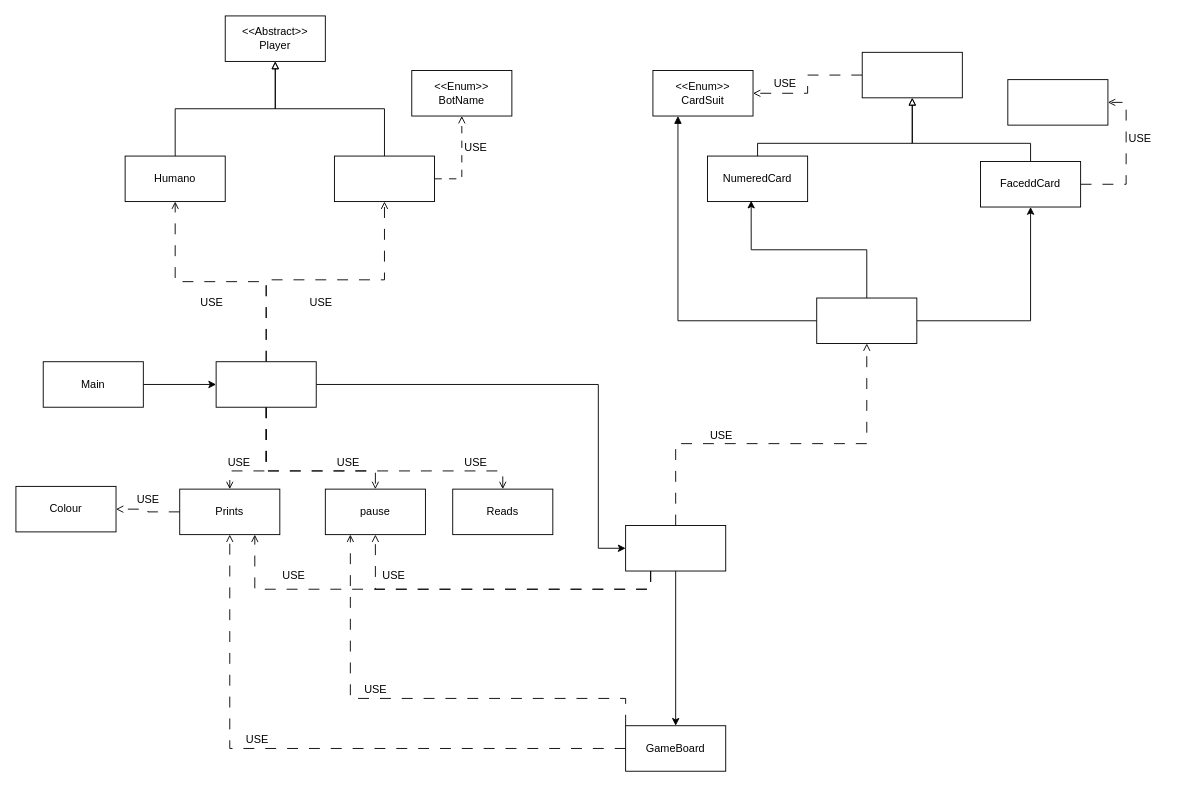
This 1178x787 diagram has some shape labels left out. The shapes that lost their labels are listed below. From the top down, each one's centre as x and y in pixels, then its label:
At (x=911, y=74): "<<Abstract>> Card".
At (x=1057, y=102): "<<Enum>> CardFace".
At (x=384, y=178): "Bot".
At (x=866, y=320): "CardsDeck".
At (x=265, y=384): "Croupier".
At (x=675, y=548): "GameLogic".
